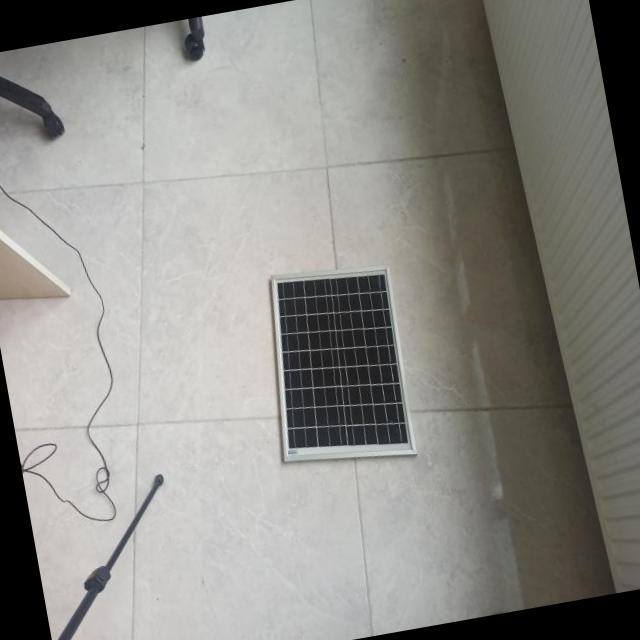no faulty: (279, 274, 407, 447)
